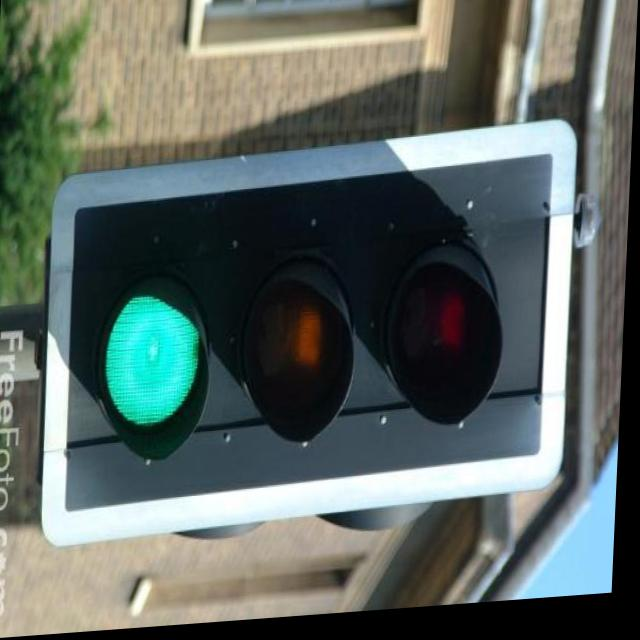green light: (76, 170, 552, 504)
